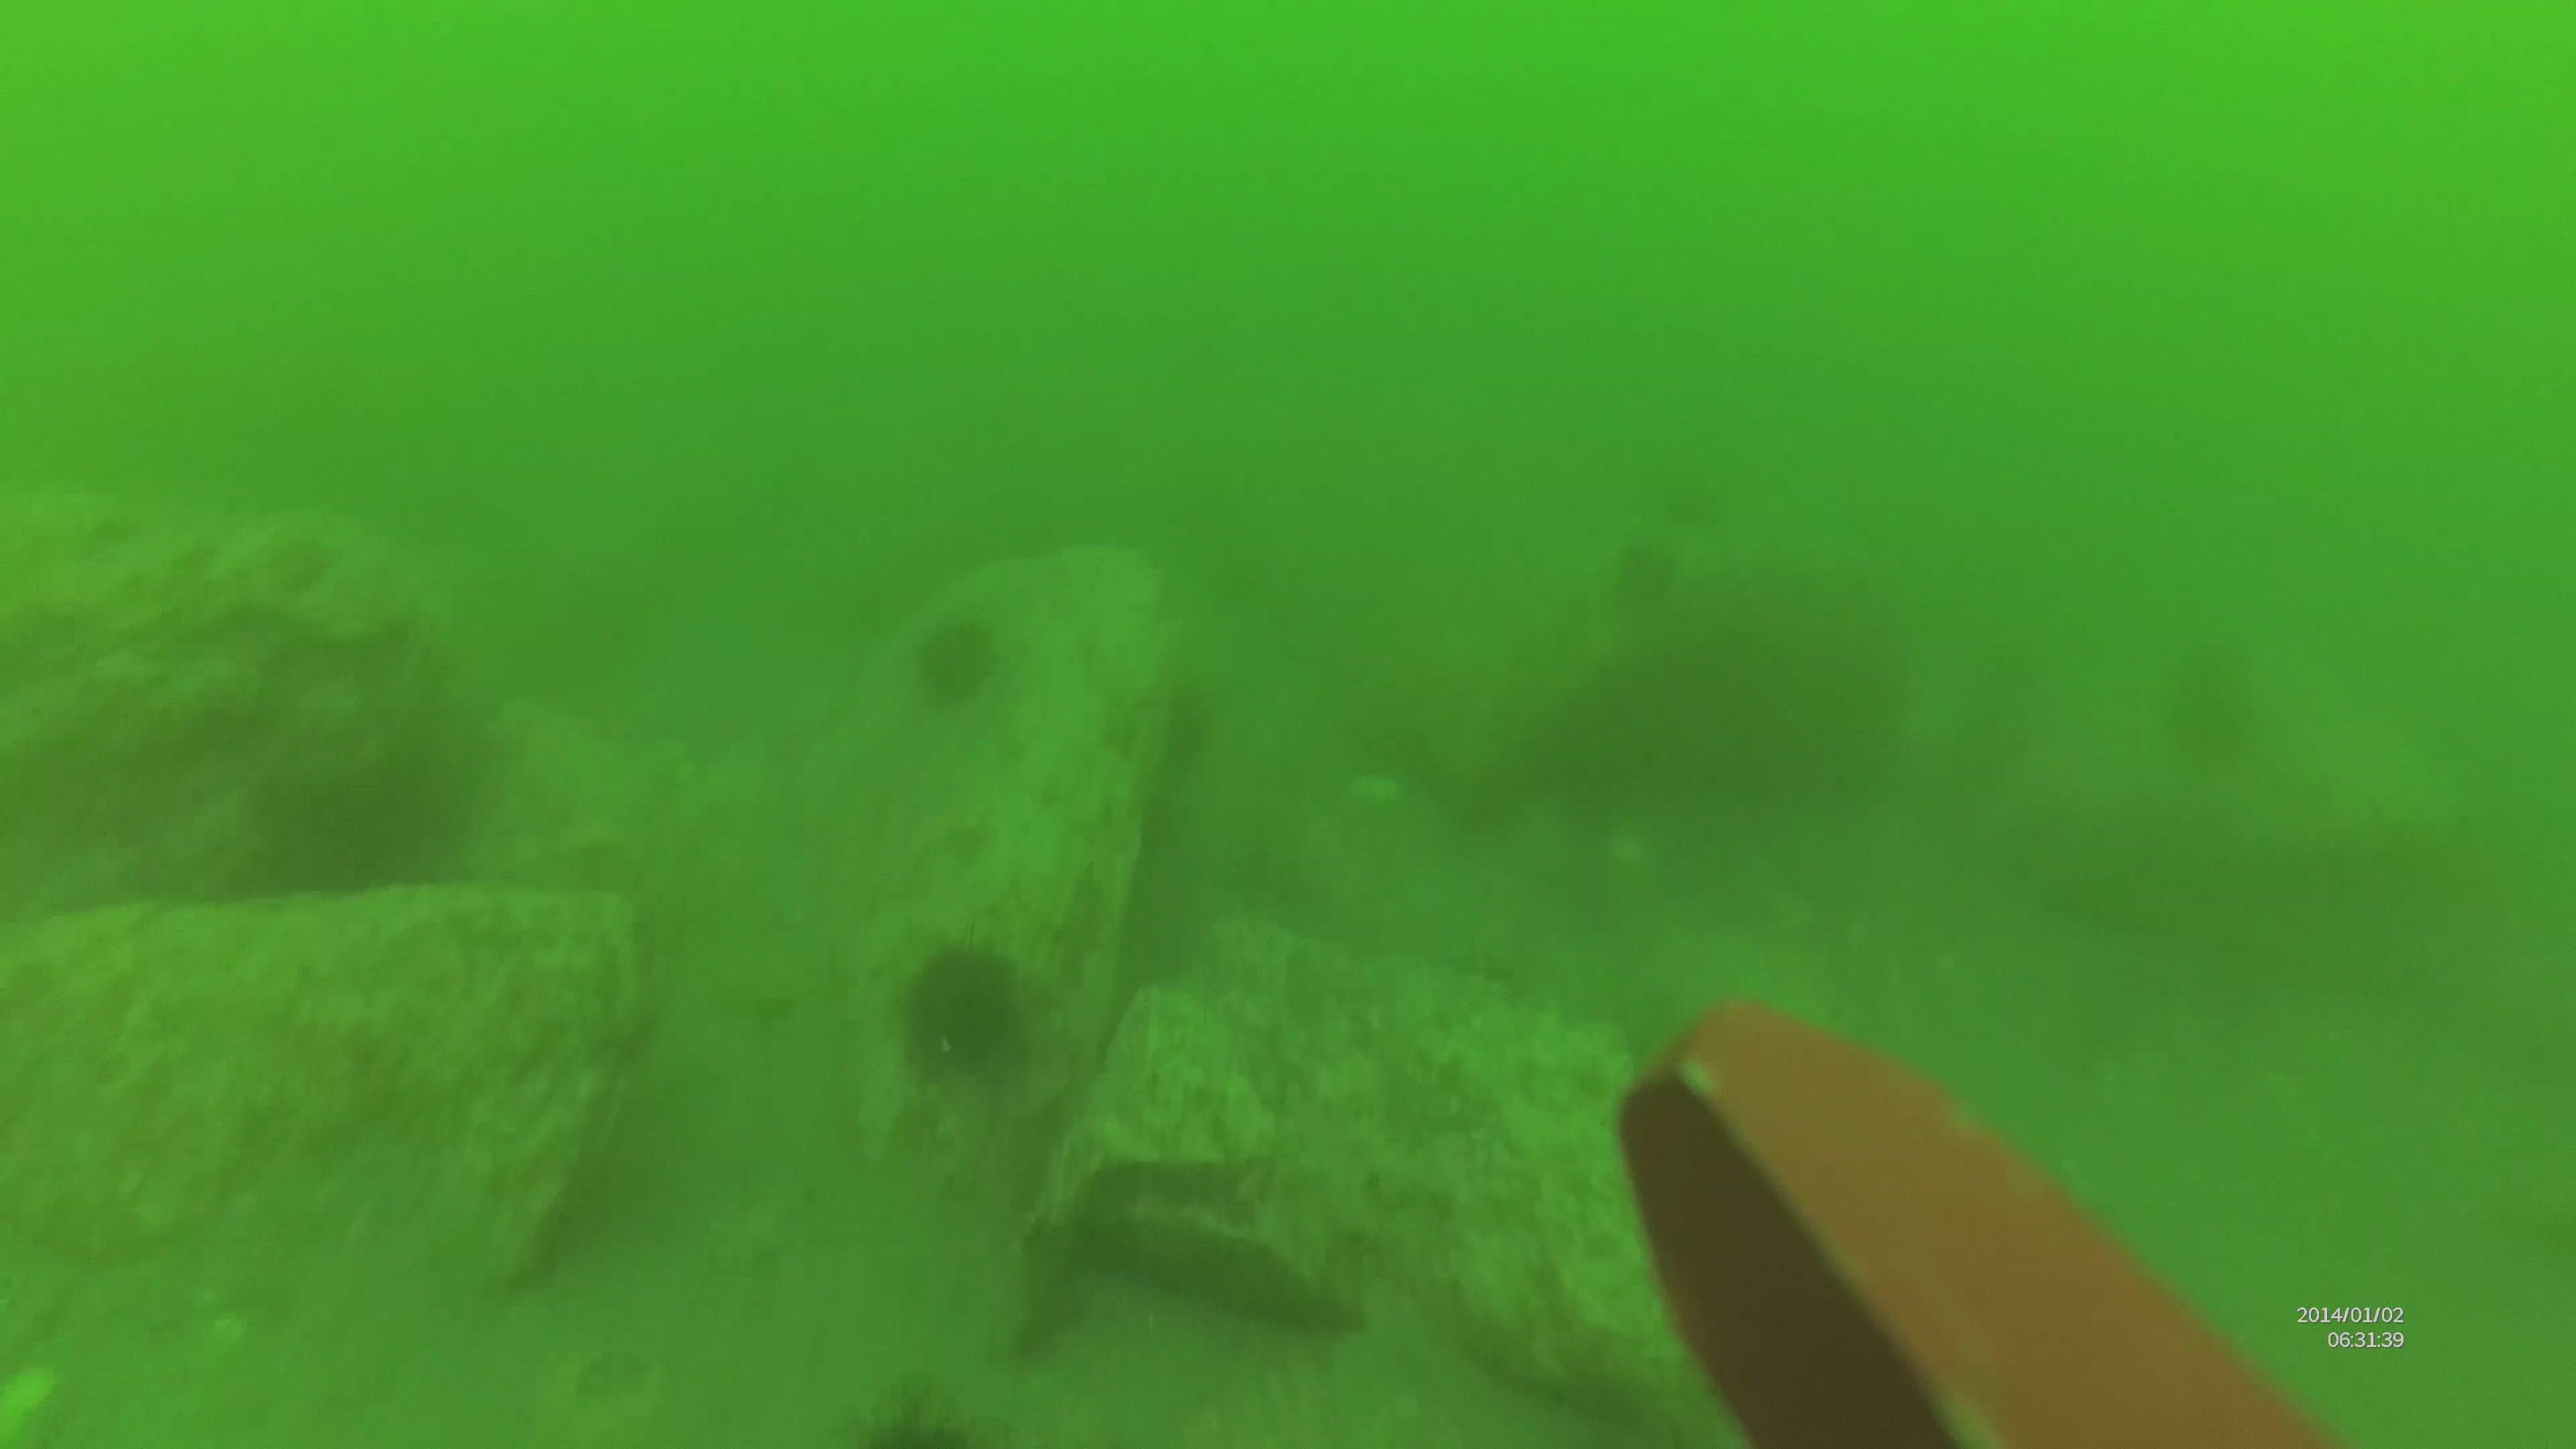echinus: (872, 936, 1039, 1081), (913, 617, 1001, 690)
